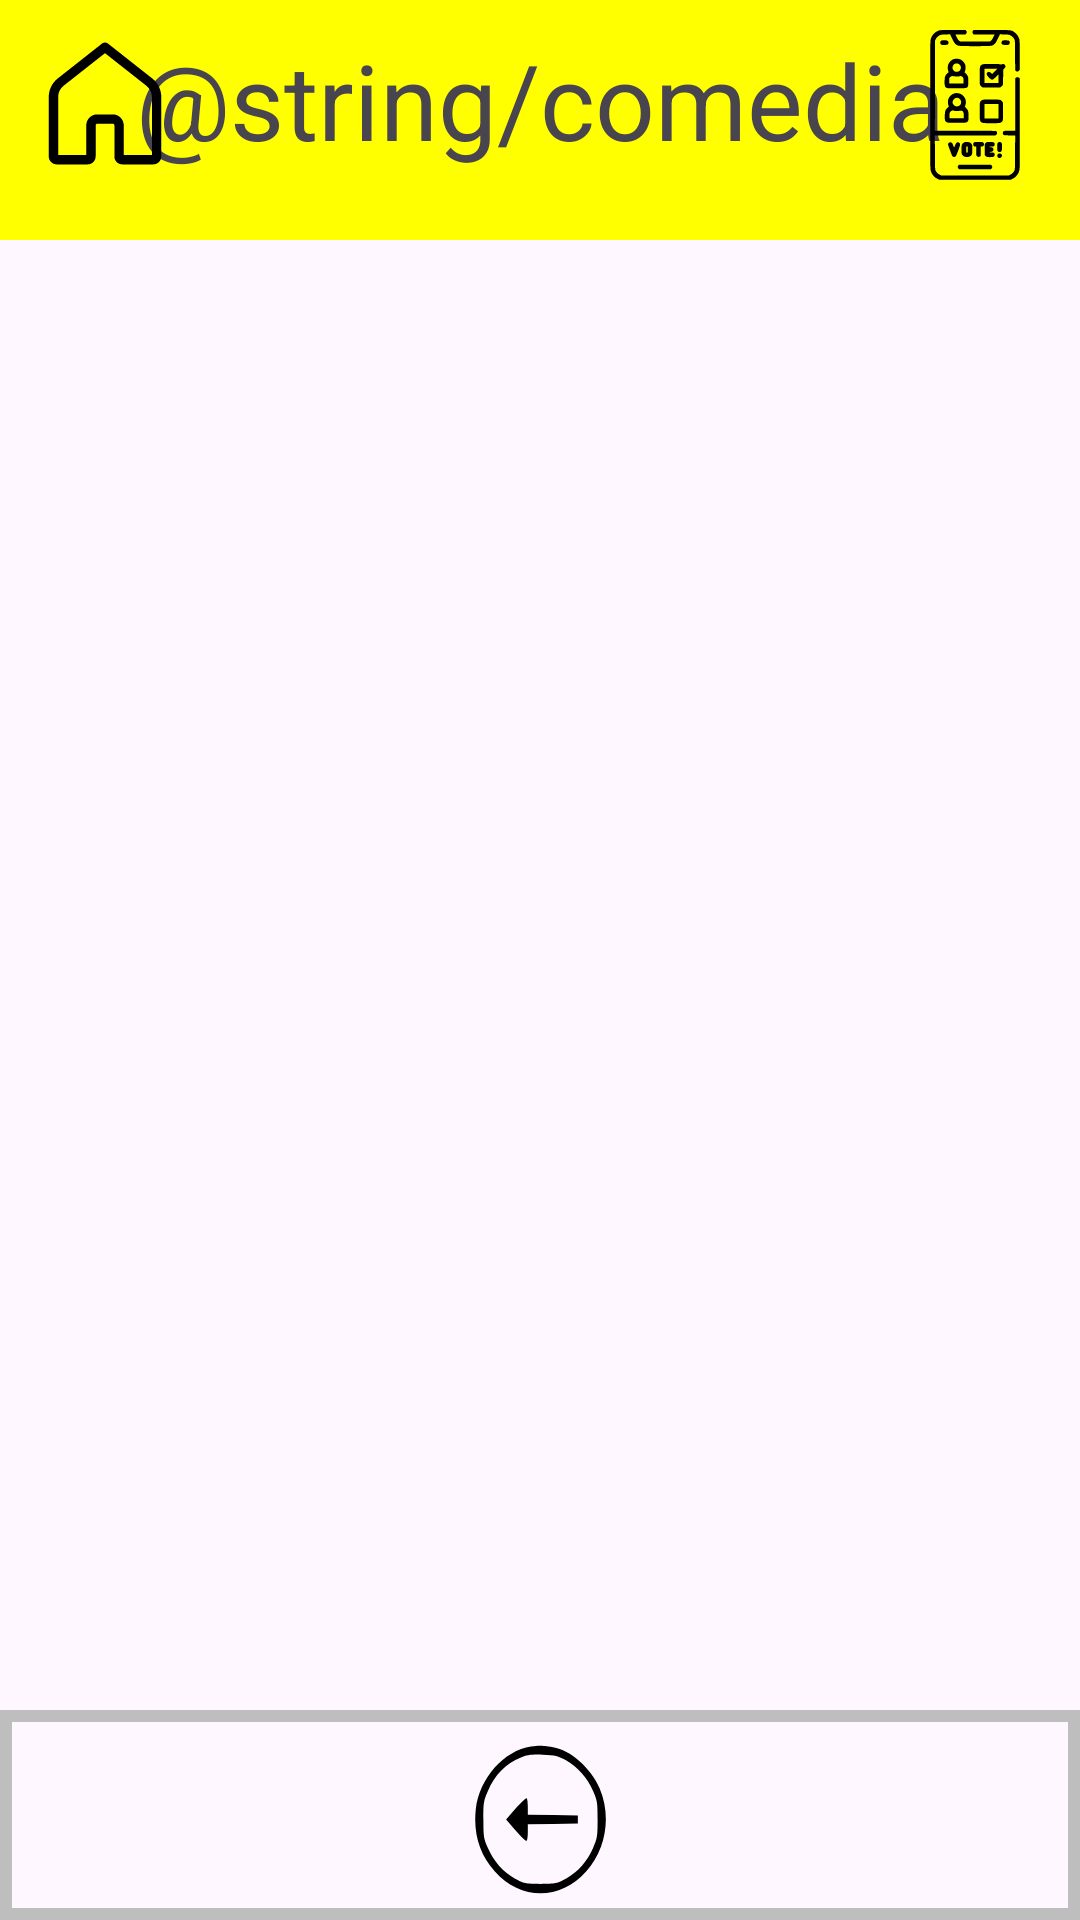

Screen size 1080×1920. Icon name, then its center in pixels as point (x, y):
pantalla principal: point (114, 103)
